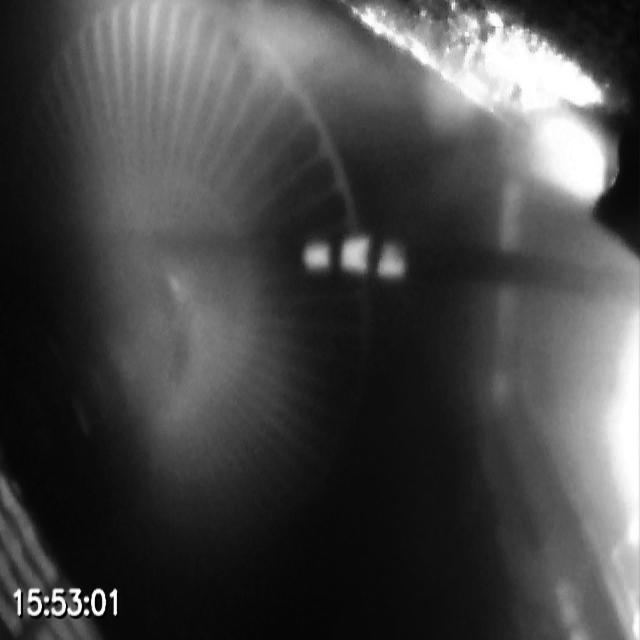white-dots: (300, 233, 408, 282)
